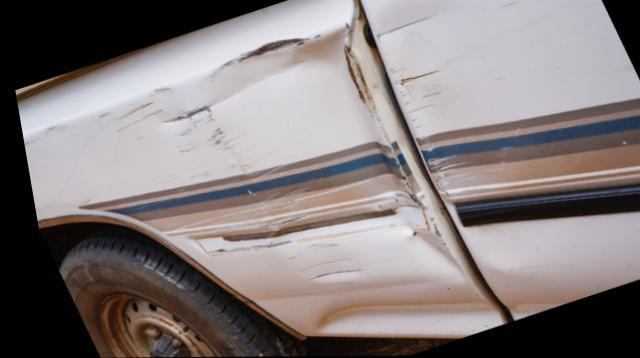dent: (149, 27, 454, 286), (377, 0, 511, 196)
